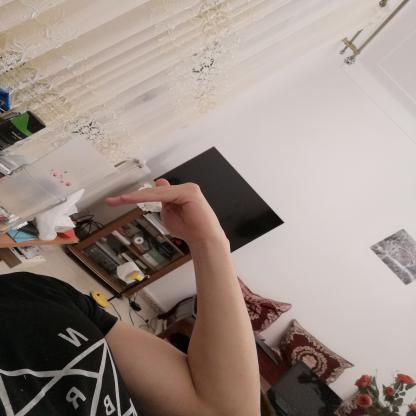KHAA: (88, 171, 249, 256)
